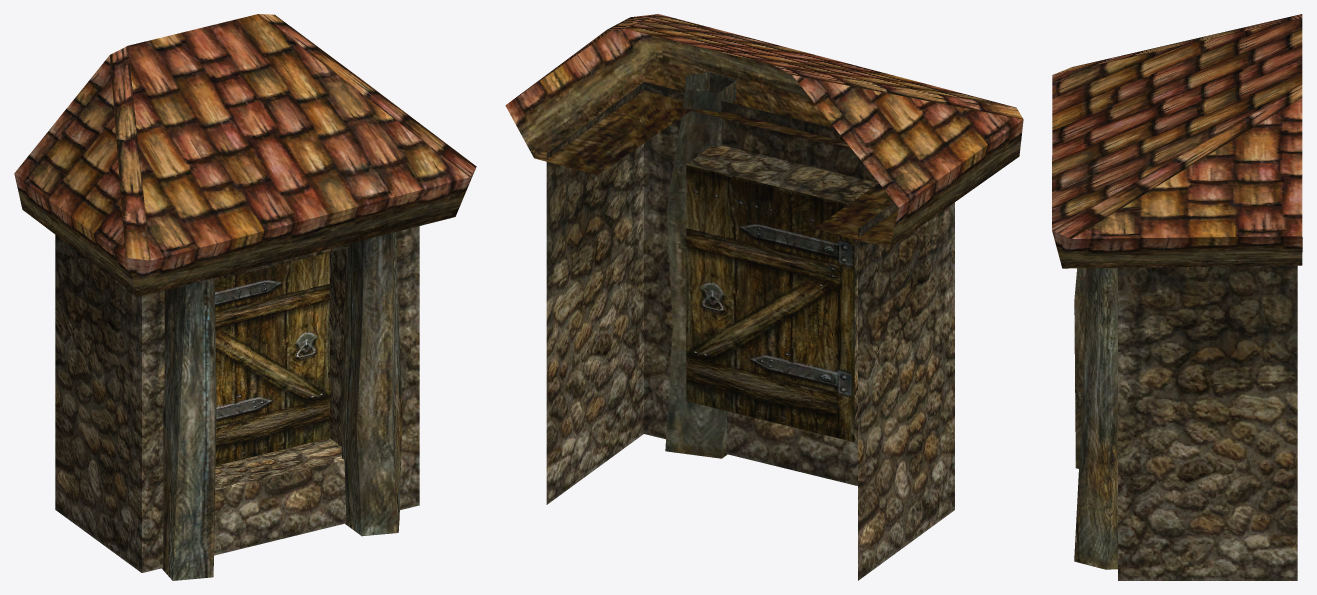
File: hrz13.glb
3 views of the same model, side by side, from view 1: azimuth 30°, elevation 25°; view 2: azimuth 150°, elevation 25°; view 3: azimuth 270°, elevation 25° (orthographic). The views are drawn at different scales.
Parts seen in each view (by area): view 1: hrz13-col; view 2: hrz13-col; view 3: hrz13-col.
Boxes of the visible parts, x1,y1,x2,y2 form: hrz13-col: [14, 14, 476, 580]; hrz13-col: [505, 14, 1023, 580]; hrz13-col: [1052, 14, 1302, 580].
Bounding box in the file's own units: 4.68 × 5.68 × 2.79.
Materials: 5 (5 with a texture image).
